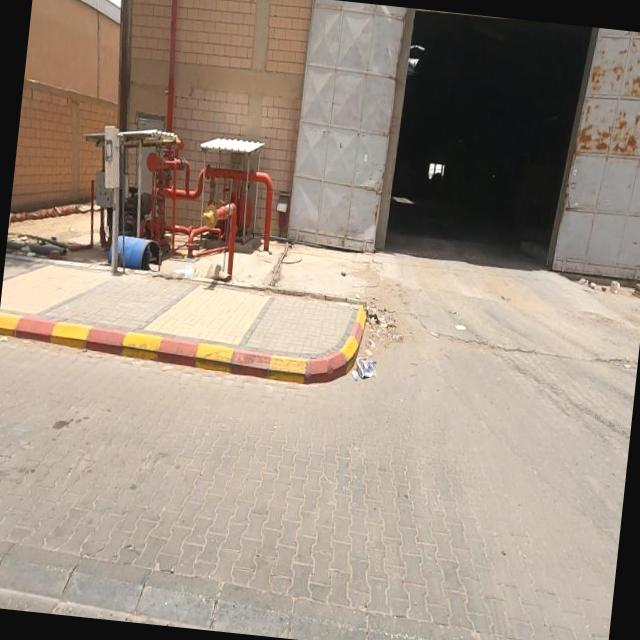debris: (320, 292, 414, 422), (329, 264, 435, 356), (411, 282, 506, 368)
